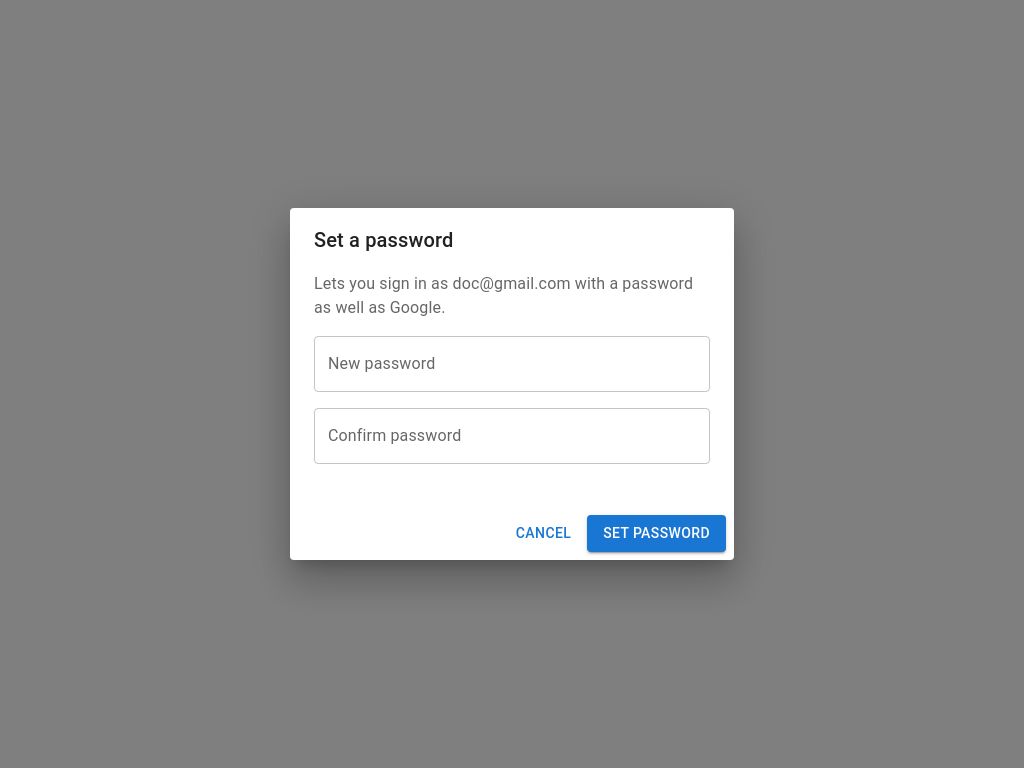
Test: rejects passwords shorter than 6 characters
Type "abc" into the password field labelled "New password" at (512, 364), box [314,336,710,392]
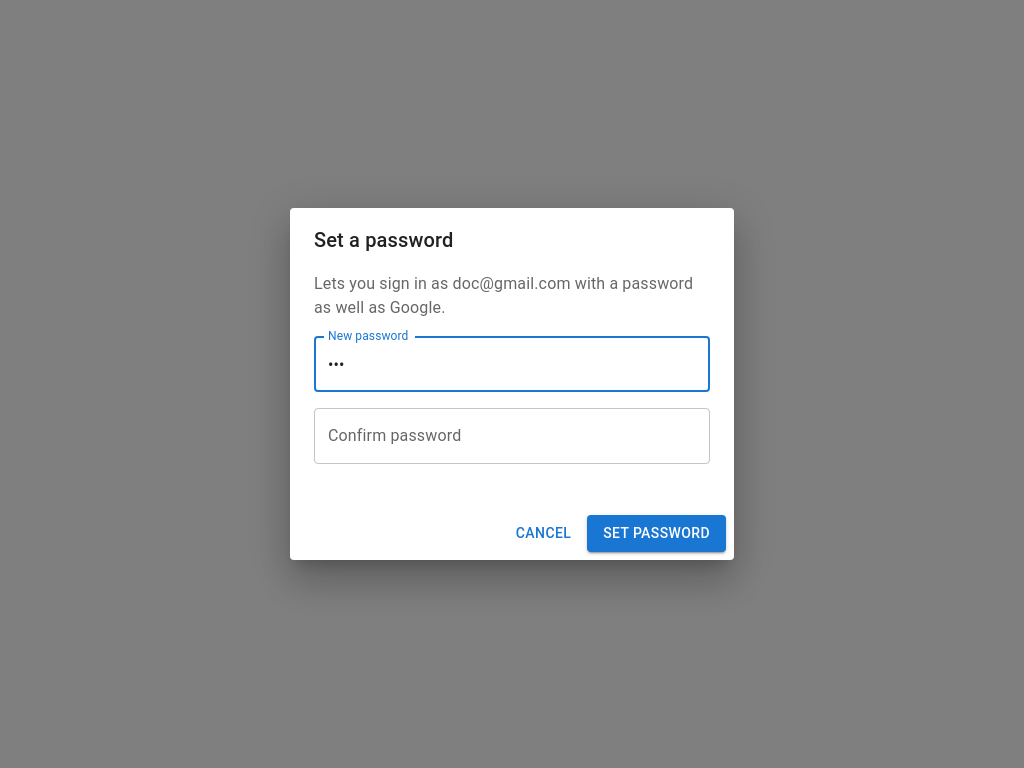
Type "abc" into the password field labelled "Confirm password" at (512, 436), box [314,408,710,464]
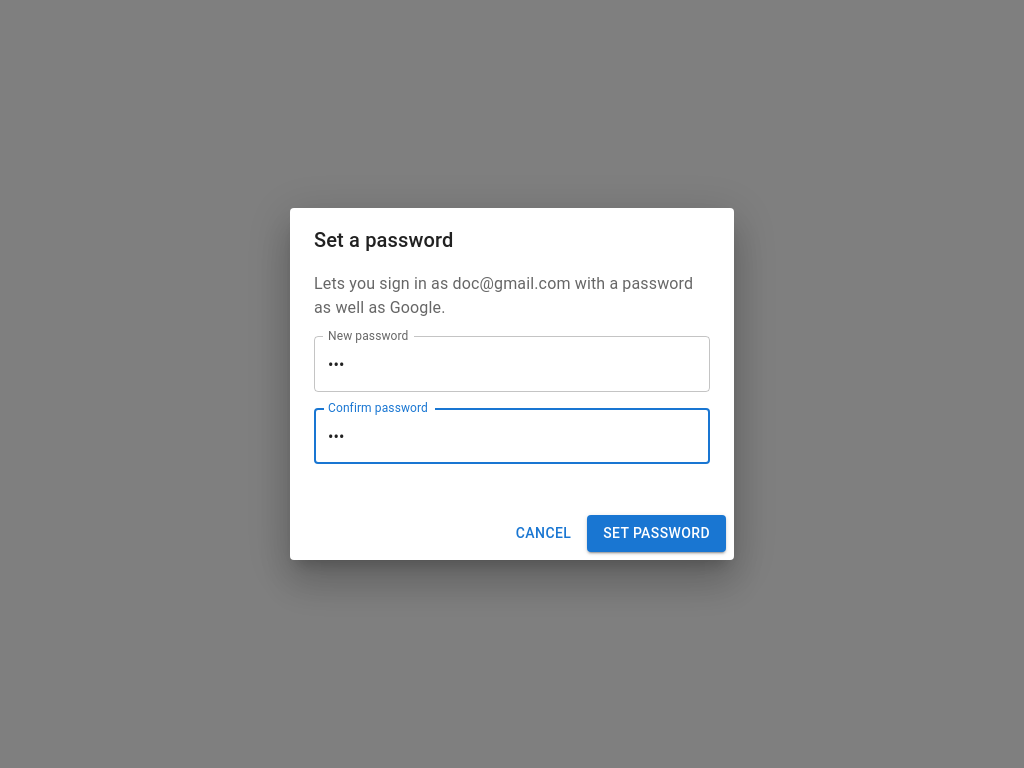
Click the button "Set password" at (657, 533), box [587,515,726,552]
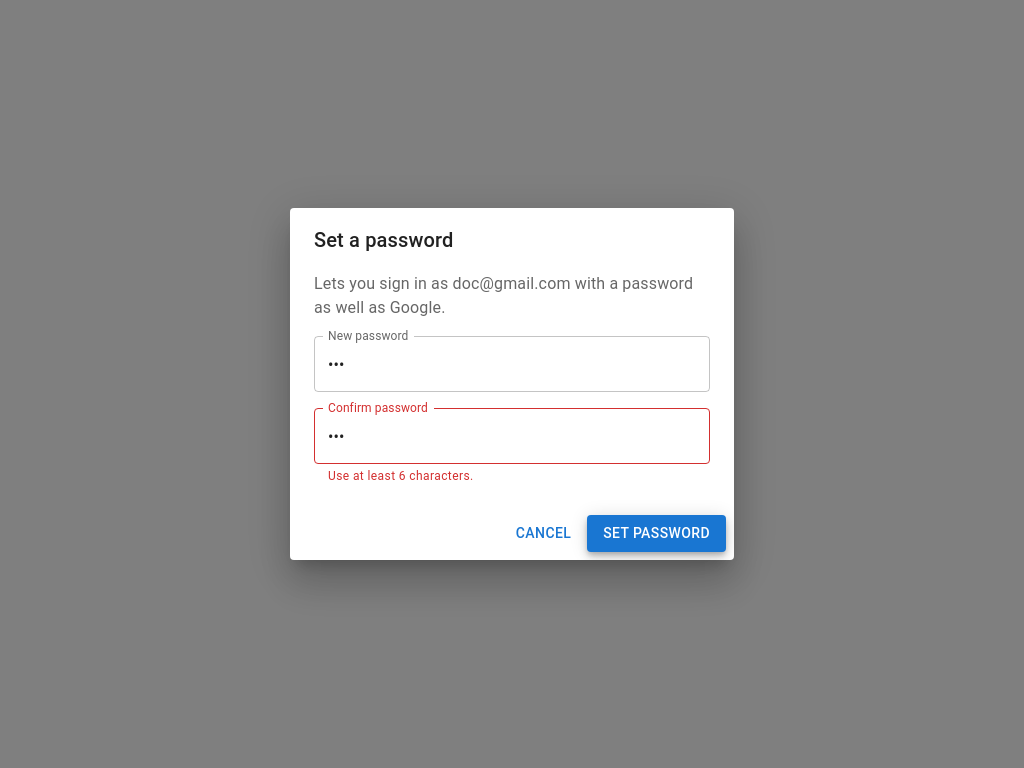
Check: the text "Use at least 6 characters." is shown, box [328,469,474,483]
